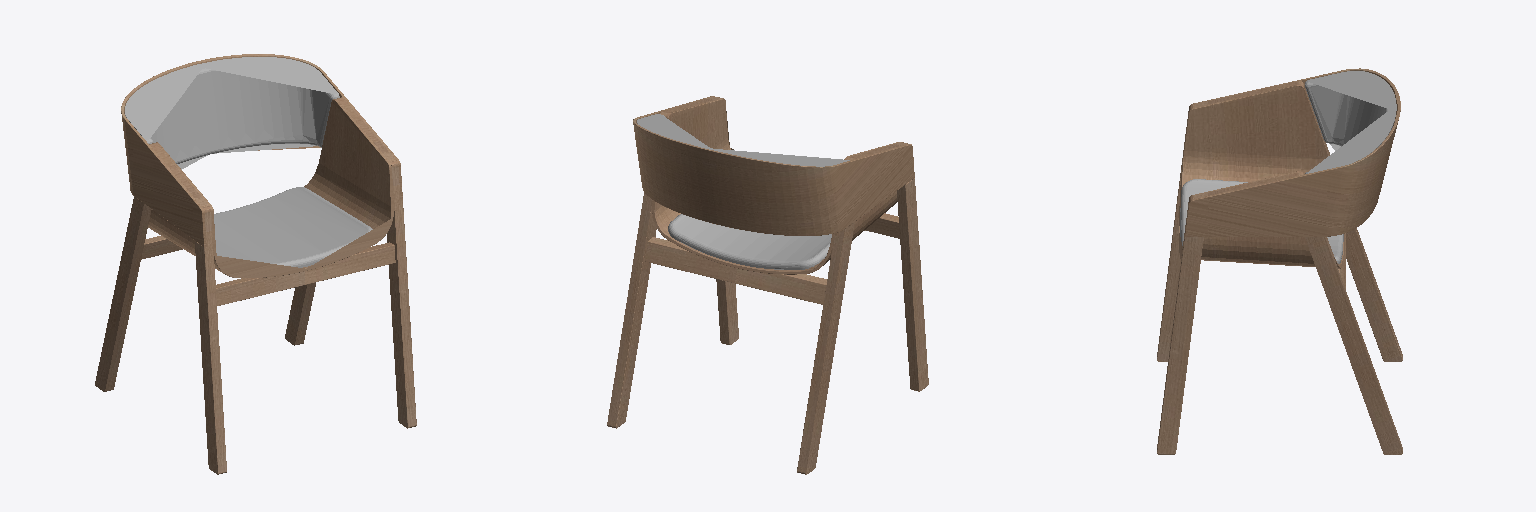
3 views of the same model, side by side, from view 1: azimuth 30°, elevation 25°; view 2: azimuth 150°, elevation 25°; view 3: azimuth 270°, elevation 25° (orthographic).
Visible parts, largest first — view 1: Mesh12 _1_017_4_1 G_324_400_1 Model, Mesh16 obj1_16_2 G_324_400_1 Model, Mesh13 _1_017_4_2 G_324_400_1 Model, Mesh14 obj12_4_1 G_324_400_1 Model, Mesh4 obj2_10_1 G_324_400_1 Model, Mesh9 obj5_10_2 G_324_400_1 Model, Mesh3 obj5_10_1 G_324_400_1 Model, Mesh7 obj3_11_2 G_324_400_1 Model, Mesh1 obj6_12_1 G_324_400_1 Model, Mesh15 obj12_4_2 G_324_400_1 Model, Mesh8 obj1_16_1 G_324_400_1 Model, Mesh6 obj3_11_1 G_324_400_1 Model (+4 smaller); view 2: Mesh4 obj2_10_1 G_324_400_1 Model, Mesh17 obj2_10_2 G_324_400_1 Model, Mesh7 obj3_11_2 G_324_400_1 Model, Mesh9 obj5_10_2 G_324_400_1 Model, Mesh6 obj3_11_1 G_324_400_1 Model, Mesh5 obj1_2_2_1 G_324_400_1 Model, Mesh16 obj1_16_2 G_324_400_1 Model, Mesh15 obj12_4_2 G_324_400_1 Model, Mesh14 obj12_4_1 G_324_400_1 Model, Mesh8 obj1_16_1 G_324_400_1 Model, Mesh3 obj5_10_1 G_324_400_1 Model, Mesh13 _1_017_4_2 G_324_400_1 Model (+2 smaller); view 3: Mesh17 obj2_10_2 G_324_400_1 Model, Mesh8 obj1_16_1 G_324_400_1 Model, Mesh6 obj3_11_1 G_324_400_1 Model, Mesh13 _1_017_4_2 G_324_400_1 Model, Mesh3 obj5_10_1 G_324_400_1 Model, Mesh16 obj1_16_2 G_324_400_1 Model, Mesh7 obj3_11_2 G_324_400_1 Model, Mesh12 _1_017_4_1 G_324_400_1 Model, Mesh9 obj5_10_2 G_324_400_1 Model, Mesh15 obj12_4_2 G_324_400_1 Model.
Part boxes in pixels (left/top/right/bottom): Mesh12 _1_017_4_1 G_324_400_1 Model: left=198, top=57, right=339, bottom=153; Mesh16 obj1_16_2 G_324_400_1 Model: left=304, top=99, right=393, bottom=270; Mesh13 _1_017_4_2 G_324_400_1 Model: left=125, top=64, right=211, bottom=169; Mesh14 obj12_4_1 G_324_400_1 Model: left=226, top=187, right=372, bottom=266; Mesh4 obj2_10_1 G_324_400_1 Model: left=121, top=62, right=206, bottom=246; Mesh9 obj5_10_2 G_324_400_1 Model: left=195, top=212, right=226, bottom=474; Mesh3 obj5_10_1 G_324_400_1 Model: left=387, top=166, right=416, bottom=428; Mesh7 obj3_11_2 G_324_400_1 Model: left=95, top=196, right=151, bottom=391; Mesh1 obj6_12_1 G_324_400_1 Model: left=216, top=242, right=395, bottom=305; Mesh15 obj12_4_2 G_324_400_1 Model: left=214, top=211, right=305, bottom=267; Mesh8 obj1_16_1 G_324_400_1 Model: left=148, top=142, right=306, bottom=277; Mesh6 obj3_11_1 G_324_400_1 Model: left=285, top=282, right=315, bottom=345; Mesh4 obj2_10_1 G_324_400_1 Model: left=708, top=144, right=914, bottom=235; Mesh17 obj2_10_2 G_324_400_1 Model: left=633, top=96, right=717, bottom=224; Mesh7 obj3_11_2 G_324_400_1 Model: left=797, top=222, right=854, bottom=474; Mesh9 obj5_10_2 G_324_400_1 Model: left=897, top=178, right=928, bottom=391; Mesh6 obj3_11_1 G_324_400_1 Model: left=607, top=192, right=656, bottom=428; Mesh5 obj1_2_2_1 G_324_400_1 Model: left=645, top=237, right=826, bottom=304; Mesh16 obj1_16_2 G_324_400_1 Model: left=652, top=98, right=736, bottom=267; Mesh15 obj12_4_2 G_324_400_1 Model: left=736, top=233, right=831, bottom=269; Mesh14 obj12_4_1 G_324_400_1 Model: left=668, top=214, right=762, bottom=262; Mesh8 obj1_16_1 G_324_400_1 Model: left=735, top=142, right=900, bottom=274; Mesh3 obj5_10_1 G_324_400_1 Model: left=716, top=279, right=738, bottom=344; Mesh13 _1_017_4_2 G_324_400_1 Model: left=711, top=149, right=849, bottom=166; Mesh17 obj2_10_2 G_324_400_1 Model: left=1185, top=106, right=1400, bottom=236; Mesh8 obj1_16_1 G_324_400_1 Model: left=1179, top=84, right=1344, bottom=241; Mesh6 obj3_11_1 G_324_400_1 Model: left=1305, top=237, right=1402, bottom=454; Mesh13 _1_017_4_2 G_324_400_1 Model: left=1305, top=71, right=1396, bottom=150; Mesh3 obj5_10_1 G_324_400_1 Model: left=1157, top=204, right=1203, bottom=454; Mesh16 obj1_16_2 G_324_400_1 Model: left=1179, top=171, right=1344, bottom=268; Mesh7 obj3_11_2 G_324_400_1 Model: left=1304, top=84, right=1402, bottom=361; Mesh12 _1_017_4_1 G_324_400_1 Model: left=1305, top=107, right=1396, bottom=173; Mesh9 obj5_10_2 G_324_400_1 Model: left=1157, top=112, right=1188, bottom=361; Mesh15 obj12_4_2 G_324_400_1 Model: left=1180, top=179, right=1343, bottom=236.
Bounding box in the file's own units: 0.54 × 0.7795 × 0.5786.
2 materials, 1 textured.